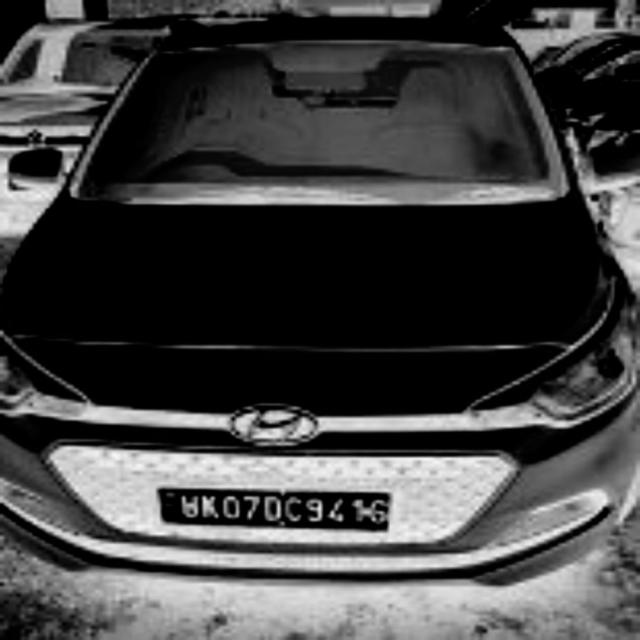0: (222, 492, 244, 522)
1: (349, 498, 366, 524)
4: (330, 492, 347, 528)
6: (370, 496, 388, 527)
7: (244, 492, 261, 524)
9: (305, 496, 325, 526)
C: (284, 493, 302, 523)
D: (264, 496, 283, 524)
IND: (160, 489, 181, 518)
Indian_registered: (158, 487, 389, 530)
K: (202, 491, 218, 522)
U: (181, 492, 200, 520)
